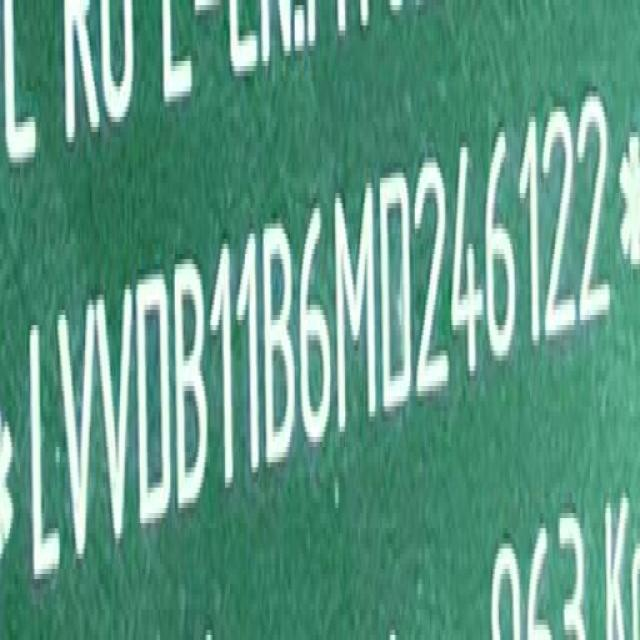1: (212, 245, 235, 501), (237, 226, 258, 484), (522, 117, 541, 356)
2: (415, 159, 450, 409), (579, 93, 614, 328), (548, 110, 579, 342)
4: (449, 143, 482, 387)
6: (300, 200, 334, 454), (486, 129, 520, 370)
B: (175, 253, 210, 511), (261, 214, 296, 468)
D: (134, 268, 170, 536), (379, 166, 415, 417)
L: (24, 320, 56, 592)
M: (335, 179, 378, 435)
V: (97, 282, 137, 558), (53, 299, 92, 580)
